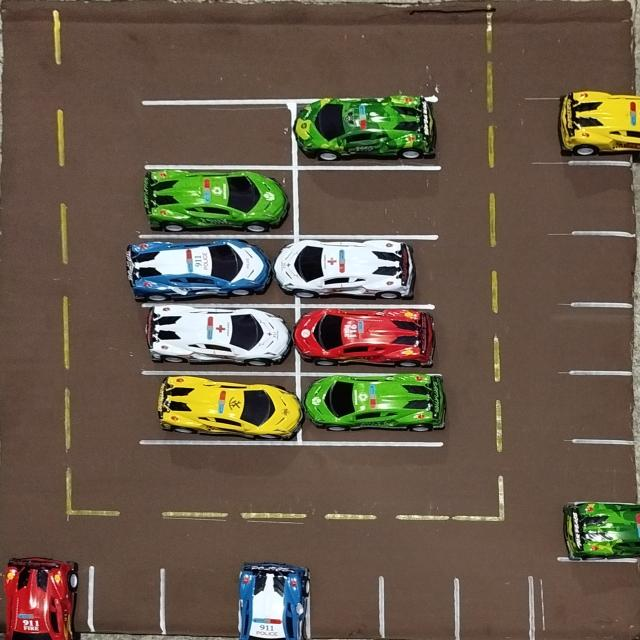libre: (138, 98, 292, 166), (294, 166, 439, 235), (161, 562, 235, 640), (379, 565, 455, 640), (91, 564, 160, 640), (457, 570, 530, 640), (573, 230, 640, 305), (573, 304, 640, 376), (575, 162, 640, 236), (574, 371, 640, 442), (569, 440, 640, 505), (314, 568, 362, 617)
no_estacionarse: (535, 559, 640, 640)
ocupado: (135, 162, 297, 235), (290, 90, 441, 167), (140, 373, 302, 444), (296, 228, 443, 306), (139, 304, 297, 374), (297, 374, 447, 447), (141, 233, 292, 305), (296, 307, 440, 375), (0, 548, 90, 640), (537, 93, 640, 166), (235, 556, 312, 640), (558, 500, 640, 566)
